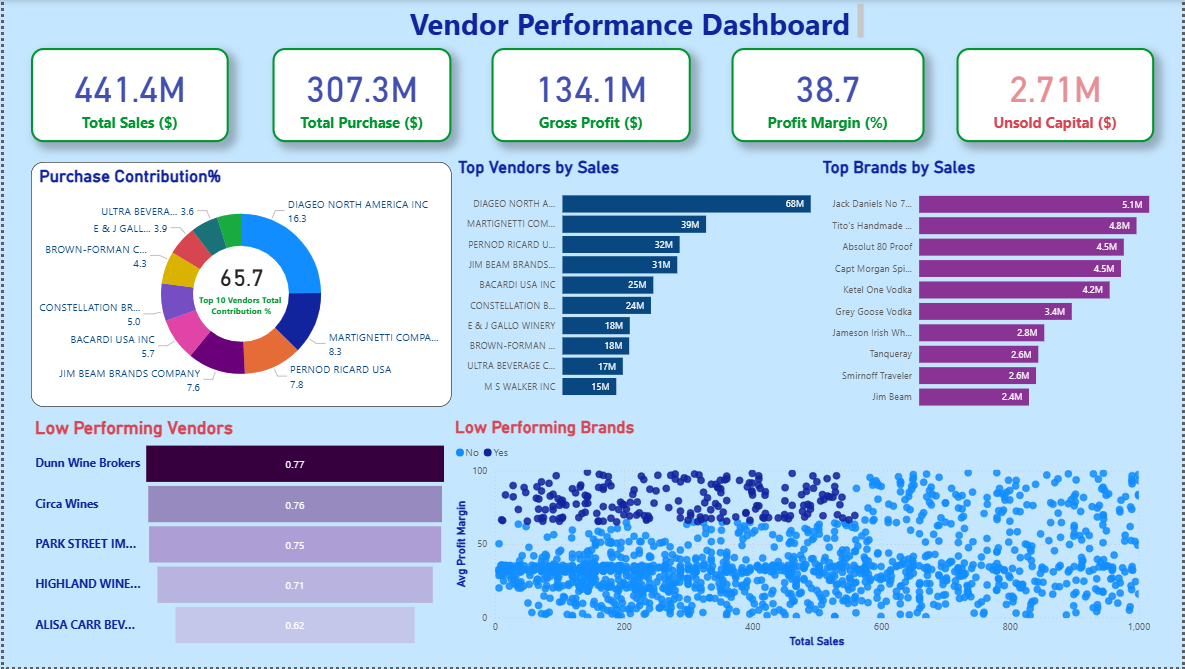

Layout of this report page (visuals, bound fields, positions):
{"tool":"powerbi","page":{"name":"Page 1","canvas":[1500,850],"ordinal":0},"visuals":[{"type":"card","fields":{"Values":["Sum(vendor_sales_summary.TotalSalesDollars)"]},"box":[34,62,252,120],"z":0},{"type":"card","fields":{"Values":["Sum(vendor_sales_summary.TotalPurchaseDollars)"]},"box":[342,62,228,120],"z":1000},{"type":"card","fields":{"Values":["Sum(vendor_sales_summary.GrossProfit)"]},"box":[622,62,254,120],"z":2000},{"type":"card","fields":{"Values":["Avg(vendor_sales_summary.ProfitMargin)"]},"box":[928,62,246,120],"z":3000},{"type":"card","fields":{"Values":["Sum(vendor_sales_summary.UnsoldCapital)"]},"box":[1214,62,252,120],"z":4000},{"type":"textbox","box":[512,0,588,56],"z":5000},{"type":"donutChart","title":"Purchase Contribution%","fields":{"Category":["PurchaseContribution.VendorName"],"Y":["Sum(PurchaseContribution.PurchaseContribution%)"]},"box":[34,206,536,312],"z":6000,"group":"g1"},{"type":"clusteredBarChart","title":"Top Vendors by Sales","fields":{"Category":["vendor_sales_summary.VendorName"],"Y":["Sum(vendor_sales_summary.TotalSalesDollars)"]},"box":[574,200,502,318],"z":6000},{"type":"clusteredBarChart","title":"Top Brands by Sales","fields":{"Category":["vendor_sales_summary.Description"],"Y":["Sum(vendor_sales_summary.TotalSalesDollars)"]},"box":[1038,200,462,332],"z":7000},{"type":"card","fields":{"Values":["PurchaseContribution.Top10PurchaseContributionPct"]},"box":[232,300,138,122],"z":7002,"group":"g1"},{"type":"group","id":"g1","title":"Group 1","box":[34,206,536,312],"z":8000},{"type":"funnel","title":"Low Performing Vendors","fields":{"Category":["LowTurnoverVendor.VendorName"],"Y":["Avg(LowTurnoverVendor.AverageStockTurnover)"]},"box":[34,532,536,298],"z":9000},{"type":"scatterChart","title":"Low Performing Brands","fields":{"Category":["BrandPerformance.Description"],"X":["Sum(BrandPerformance.TotalSales)"],"Y":["Avg(BrandPerformance.AverageProfitMargin)"],"Series":["BrandPerformance.TargetBrand"]},"box":[570,532,896,298],"z":10000}]}

Visuals, with their boxes in screenshot pixels (x1, y1, x2, y2), scaled from the page's 1500x850 canvas onto the 1185x669 screenshot:
card - Sum(vendor_sales_summary.TotalSalesDollars): bbox=[27, 49, 226, 143]
card - Sum(vendor_sales_summary.TotalPurchaseDollars): bbox=[270, 49, 450, 143]
card - Sum(vendor_sales_summary.GrossProfit): bbox=[491, 49, 692, 143]
card - Avg(vendor_sales_summary.ProfitMargin): bbox=[733, 49, 927, 143]
card - Sum(vendor_sales_summary.UnsoldCapital): bbox=[959, 49, 1158, 143]
textbox: bbox=[404, 0, 869, 44]
"Purchase Contribution%" donutChart: bbox=[27, 162, 450, 408]
"Top Vendors by Sales" clusteredBarChart: bbox=[453, 157, 850, 408]
"Top Brands by Sales" clusteredBarChart: bbox=[820, 157, 1184, 419]
card - PurchaseContribution.Top10PurchaseContributionPct: bbox=[183, 236, 292, 332]
"Group 1" group: bbox=[27, 162, 450, 408]
"Low Performing Vendors" funnel: bbox=[27, 419, 450, 653]
"Low Performing Brands" scatterChart: bbox=[450, 419, 1158, 653]
